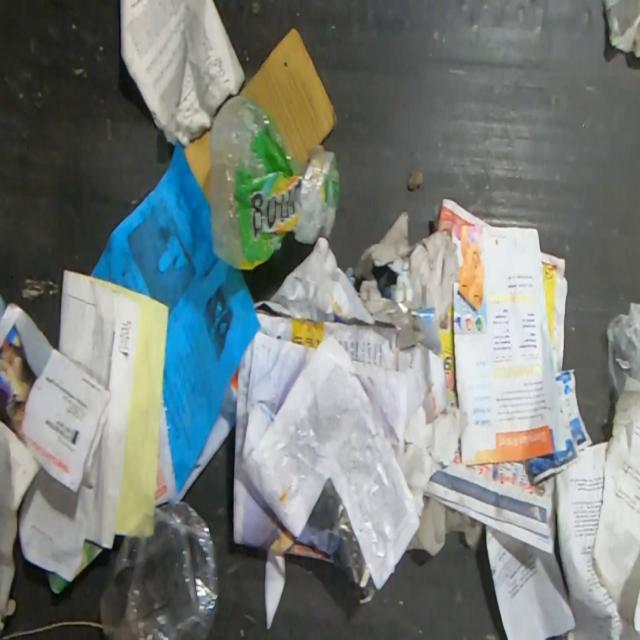cardboard: (238, 26, 338, 161), (182, 131, 210, 201)
soft_plastic: (208, 92, 342, 272), (97, 500, 220, 640), (604, 301, 640, 401)
